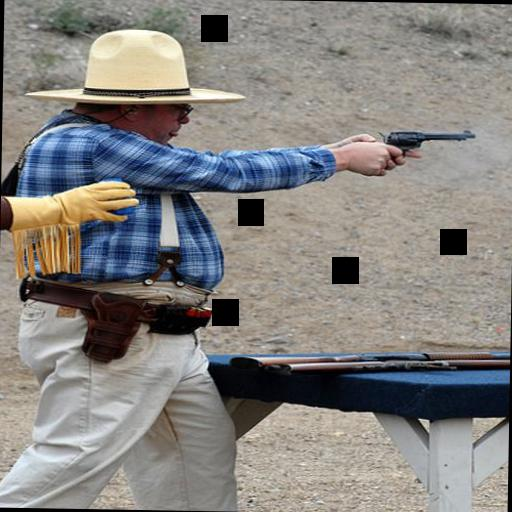Handgun: (378, 125, 474, 169)
